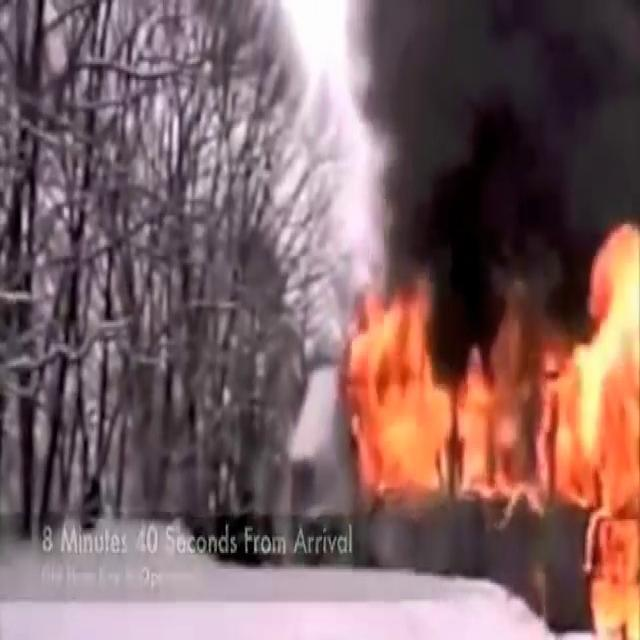Fire: (331, 274, 545, 496), (546, 211, 639, 640)
Smoke: (317, 0, 640, 304)
